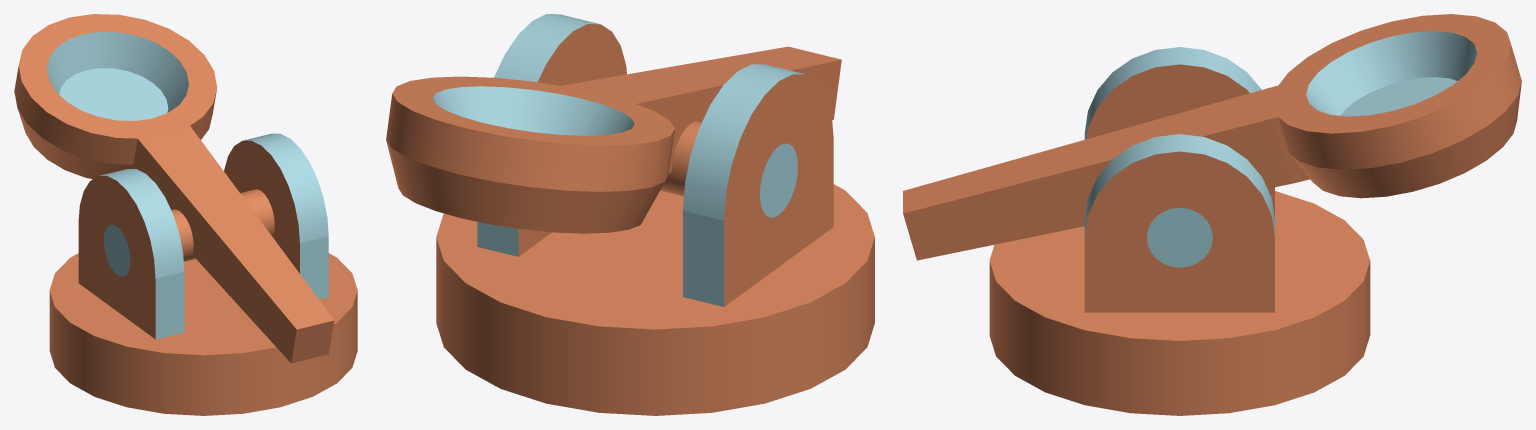
Rendered from weapon_catapult.fbx.
3 views of the same model, side by side, from view 1: azimuth 30°, elevation 25°; view 2: azimuth 150°, elevation 25°; view 3: azimuth 270°, elevation 25° (orthographic). The views are drawn at different scales.
Parts seen in each view (by area): view 1: weapon_catapult, catapult; view 2: weapon_catapult, catapult; view 3: weapon_catapult, catapult.
Part boxes in pixels (x1,y1,x2,y2): weapon_catapult: (49,133,357,415); catapult: (14,14,334,363); weapon_catapult: (436,14,874,415); catapult: (386,46,841,233); weapon_catapult: (989,47,1370,415); catapult: (903,14,1521,260).
Size of the model in its own units: 4.6 by 3.88 by 7.48.
